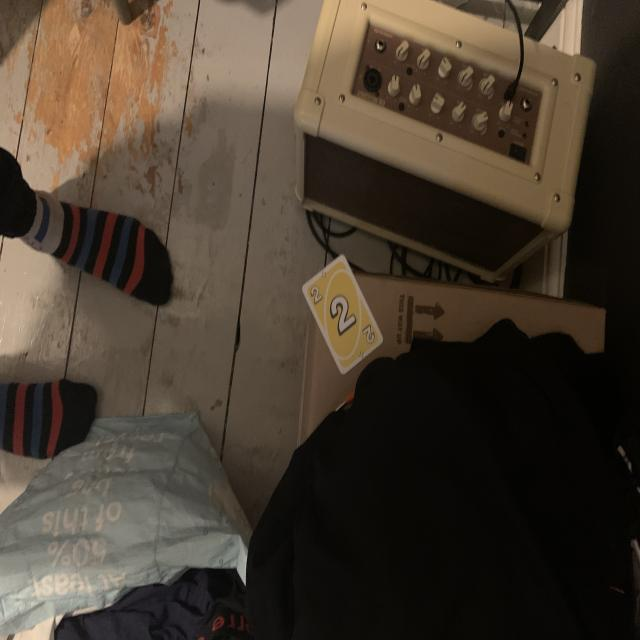lyellow-2: (308, 282, 324, 309)
